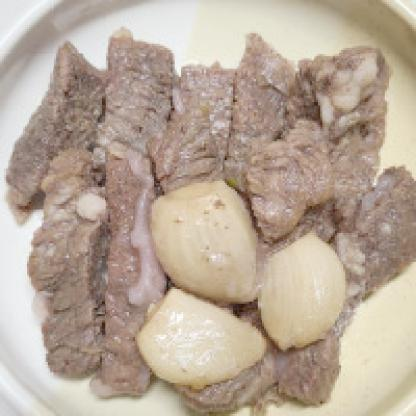Carne: (273, 167, 415, 408), (4, 42, 121, 209), (32, 145, 110, 370), (299, 52, 387, 230), (101, 180, 168, 408), (98, 33, 172, 195), (224, 30, 288, 214), (144, 67, 233, 193), (253, 117, 330, 244)
